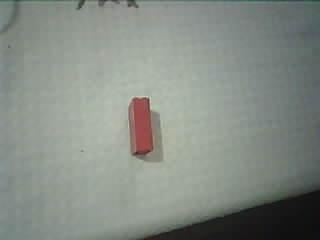lego: (126, 96, 154, 156)
